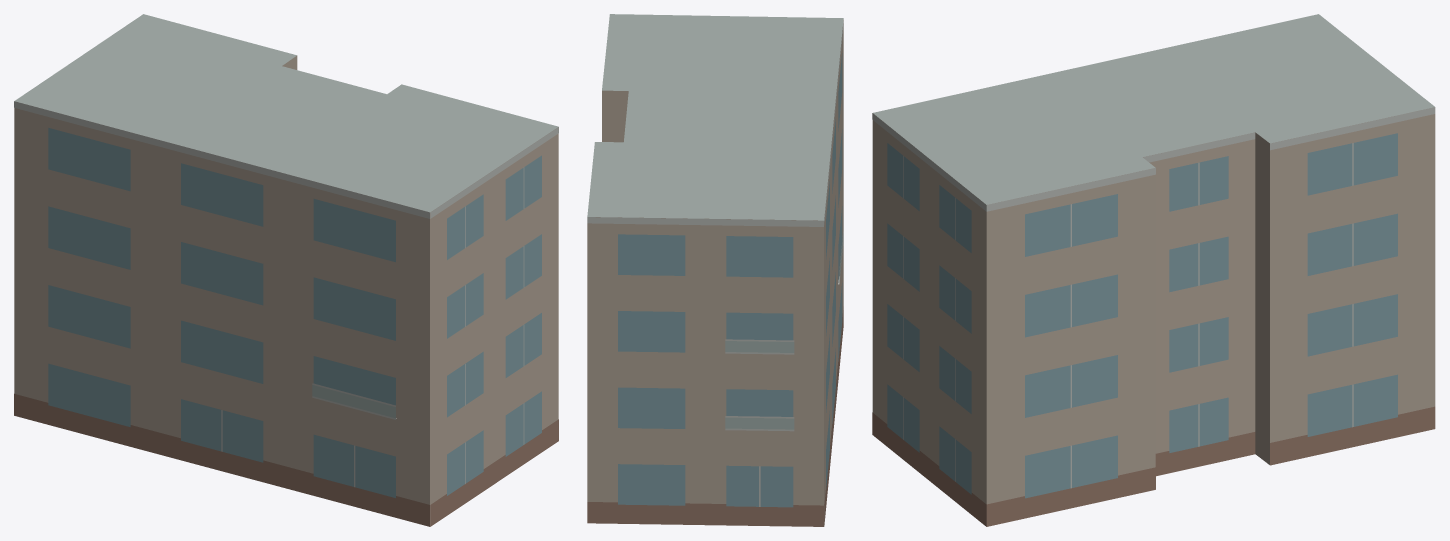
Rendered from survey-upis-32952298.glb.
3 views of the same model, side by side, from view 1: azimuth 30°, elevation 25°; view 2: azimuth 150°, elevation 25°; view 3: azimuth 270°, elevation 25° (orthographic). The views are drawn at different scales.
Visible parts, largest first — view 1: survey-upis-32952298.tmp; view 2: survey-upis-32952298.tmp; view 3: survey-upis-32952298.tmp.
Boxes of the visible parts, x1,y1,x2,y2 form: survey-upis-32952298.tmp: [14, 14, 558, 526]; survey-upis-32952298.tmp: [587, 14, 843, 526]; survey-upis-32952298.tmp: [872, 14, 1435, 526].
Size of the model in its own units: 14.64 by 11.5 by 18.23.
